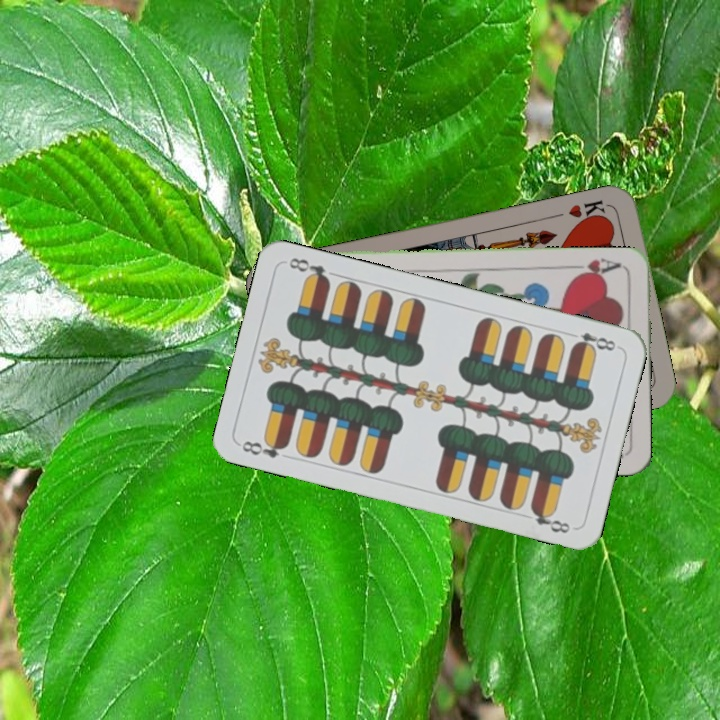E8: (563, 328, 619, 355), (238, 434, 291, 461)
HA: (566, 254, 624, 281)
HK: (564, 196, 609, 227)
